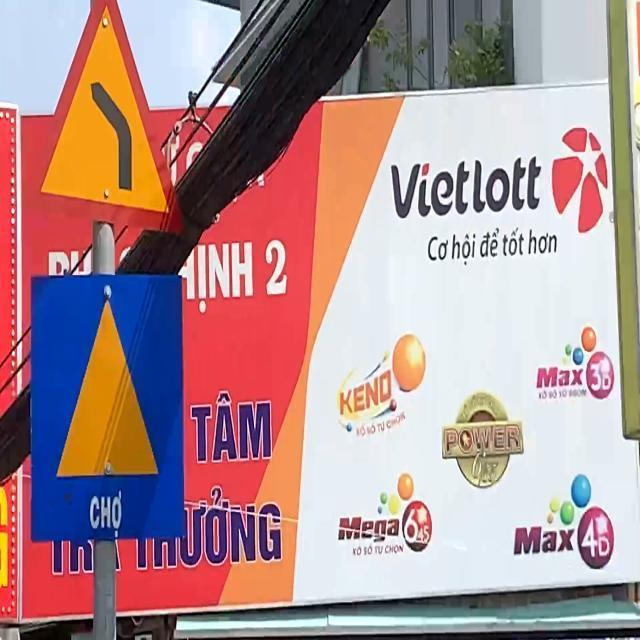201-cho-ngoat-nguy-hiem: (26, 0, 182, 236)
